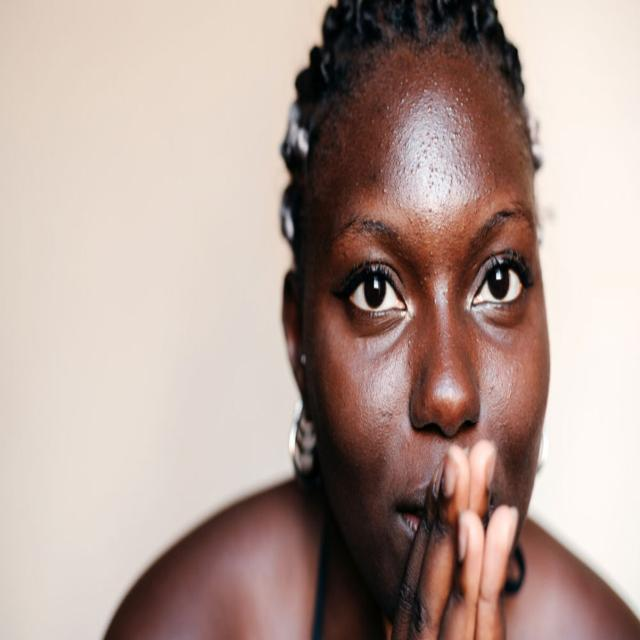oily: (344, 352, 404, 428)
